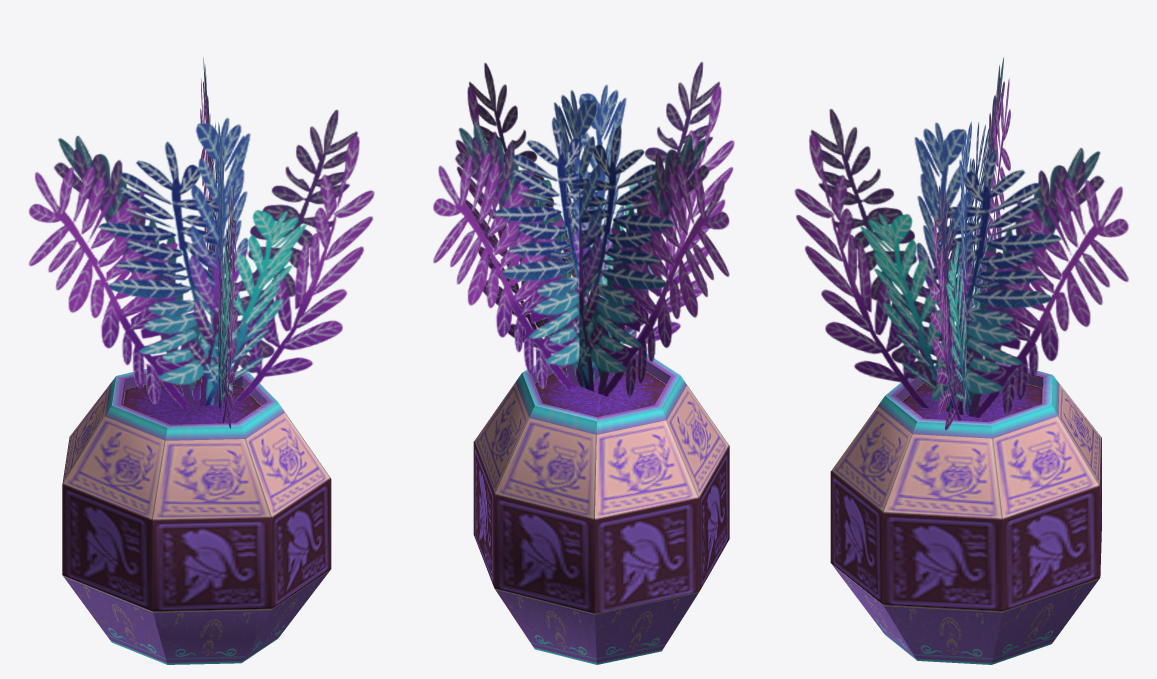
Rendered from Pot_01_Art.001_Vapor.glb.
3 renders of one model, left to right at view 1: azimuth 30°, elevation 25°; view 2: azimuth 150°, elevation 25°; view 3: azimuth 270°, elevation 25°, orthographic. The views are drawn at different scales.
Visible parts, largest first — view 1: Pot_01_Art.001_Vapor; view 2: Pot_01_Art.001_Vapor; view 3: Pot_01_Art.001_Vapor.
Part boxes in pixels (x1,y1,x2,y2): Pot_01_Art.001_Vapor: [28, 57, 374, 664]; Pot_01_Art.001_Vapor: [433, 61, 734, 664]; Pot_01_Art.001_Vapor: [794, 57, 1128, 664].
Bounding box in the file's own units: 1.59 × 2.43 × 1.48.
2 materials, 2 textured.
